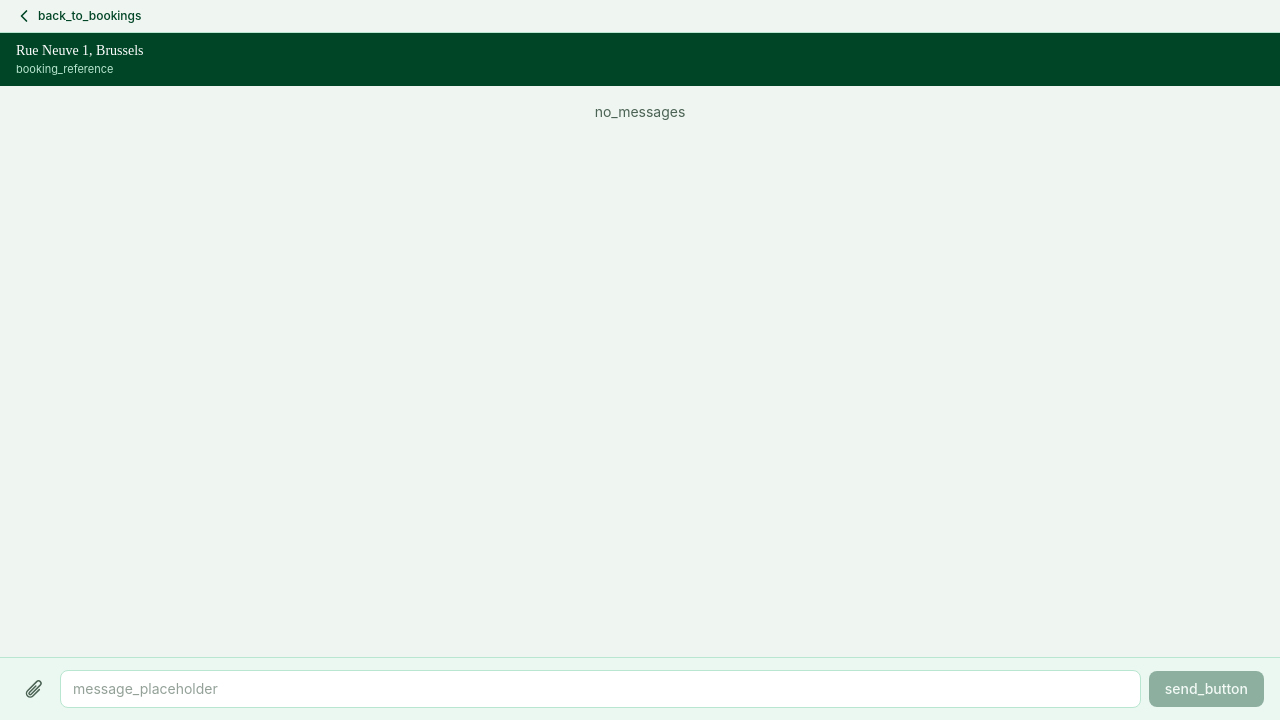
Test: Chat sending messages › submit sends message via REST
In the field with placeholder "message_placeholder": [600, 689] box [60,670,1141,708], type "Hello"
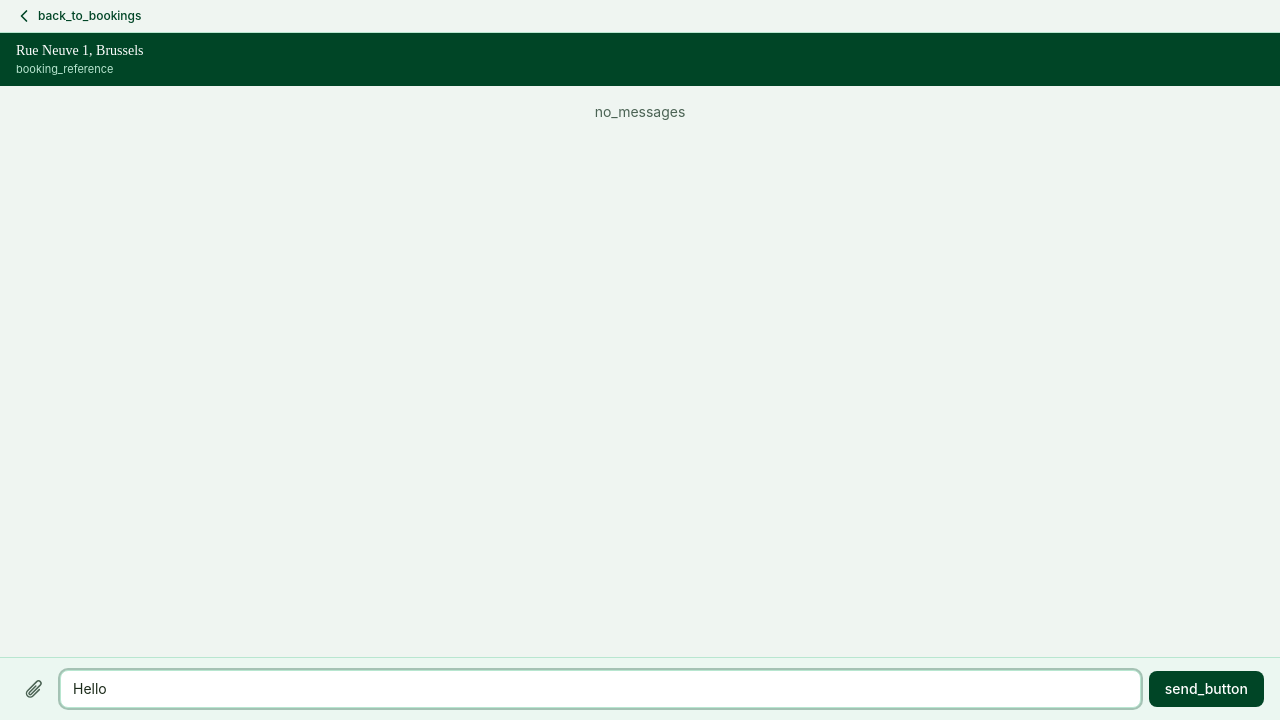
Press Enter
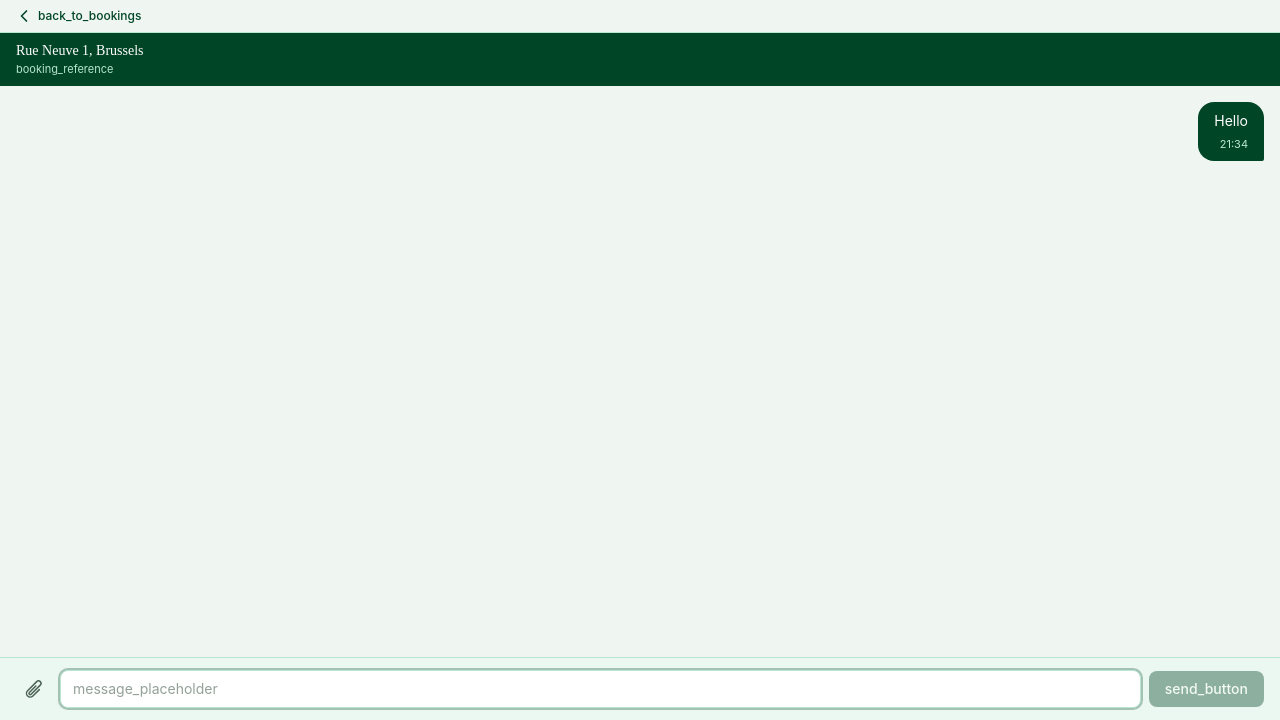
Now the text "Hello" is shown, box [1214,110,1248,132]
